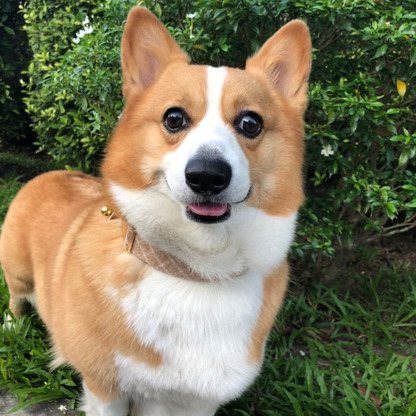Corgi: (39, 7, 330, 404)
